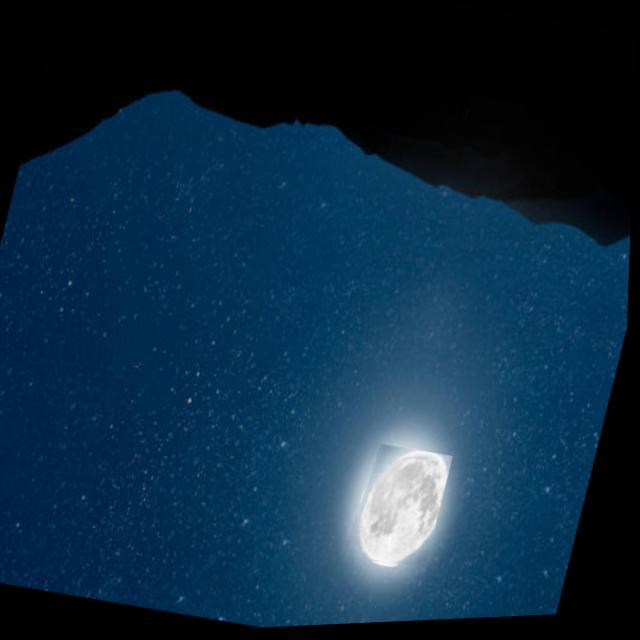moon: (344, 442, 456, 579)
